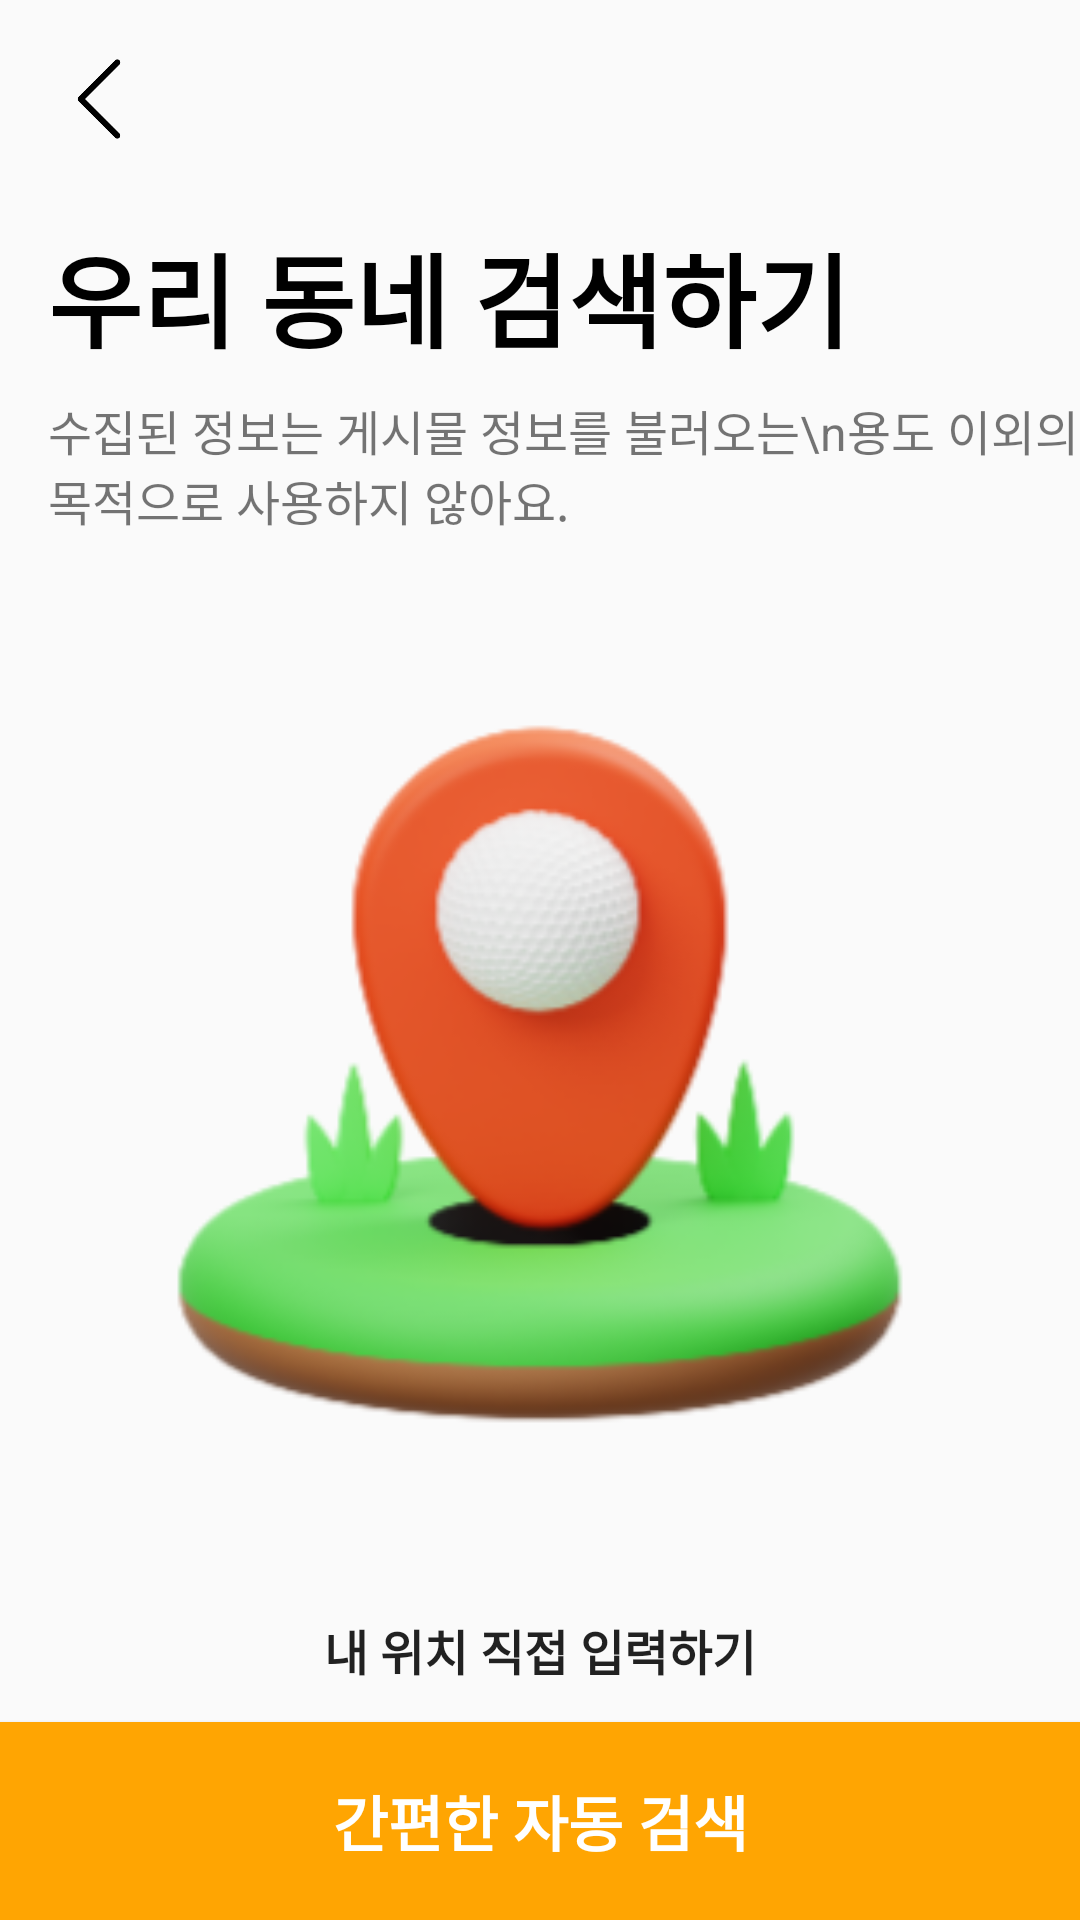

Icon bounding boxes for this 1080px x 1920px phone screenshot, format (x1, y1, x2, y2):
back: (78, 59, 121, 139)
